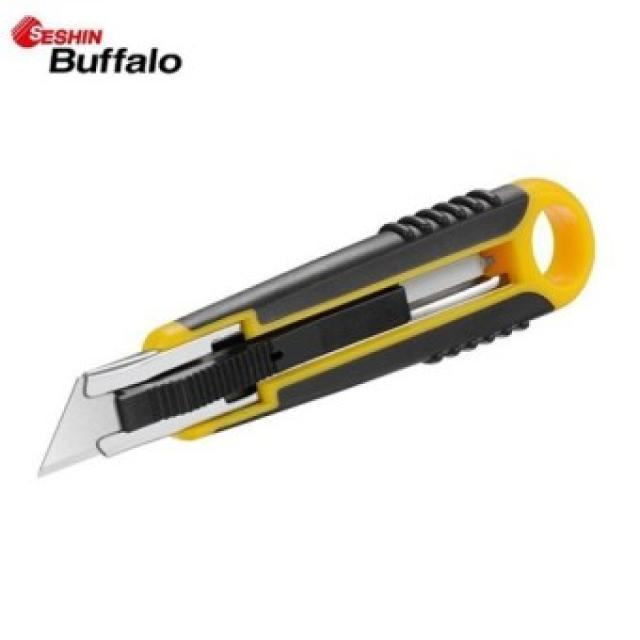cutter: (28, 173, 594, 482)
